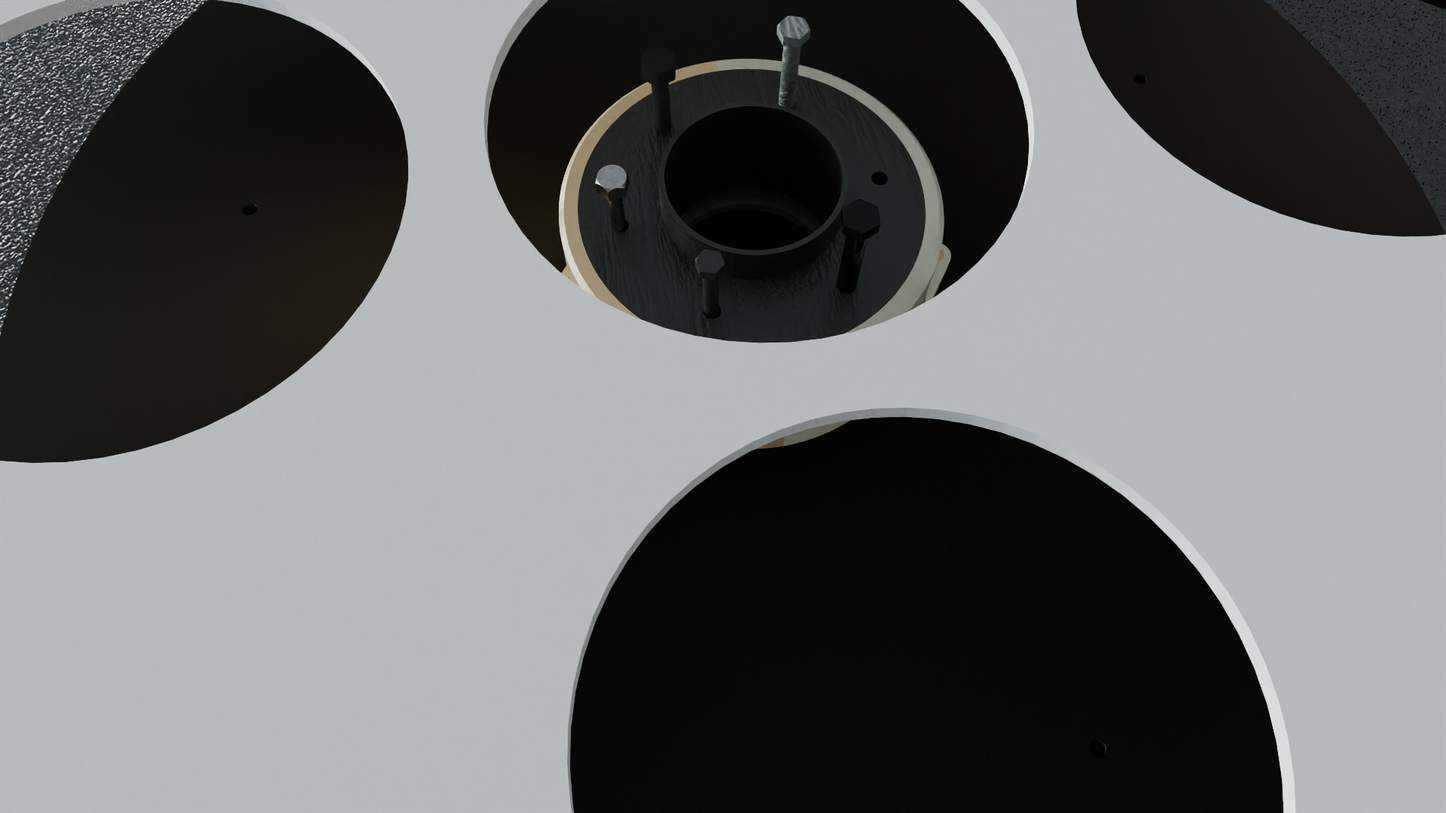bolt: (842, 199, 880, 234), (642, 47, 675, 78), (596, 165, 628, 193), (777, 16, 810, 39), (695, 250, 725, 274)
